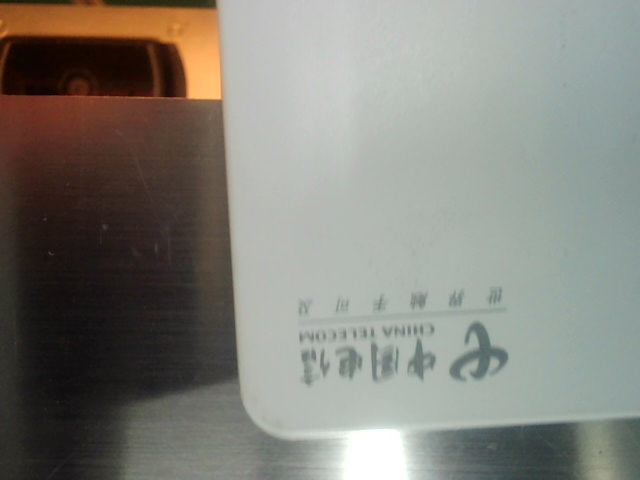AB_ChinaTelecom: (281, 283, 511, 386)
